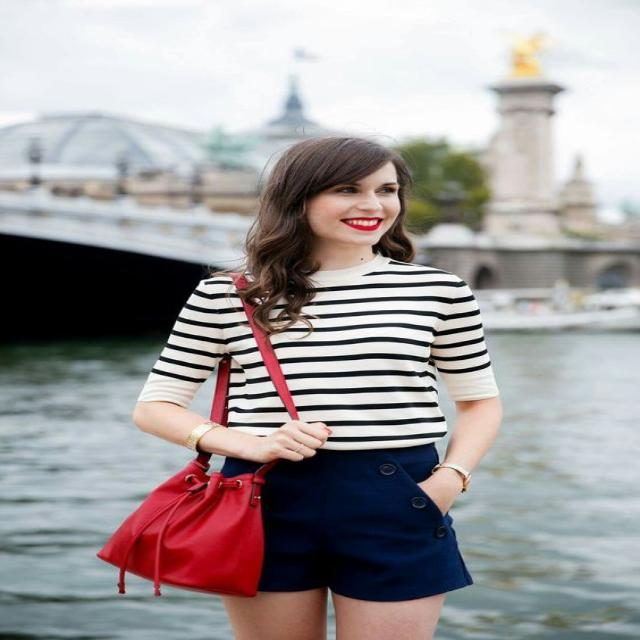Upper-Body: (139, 255, 499, 449)
